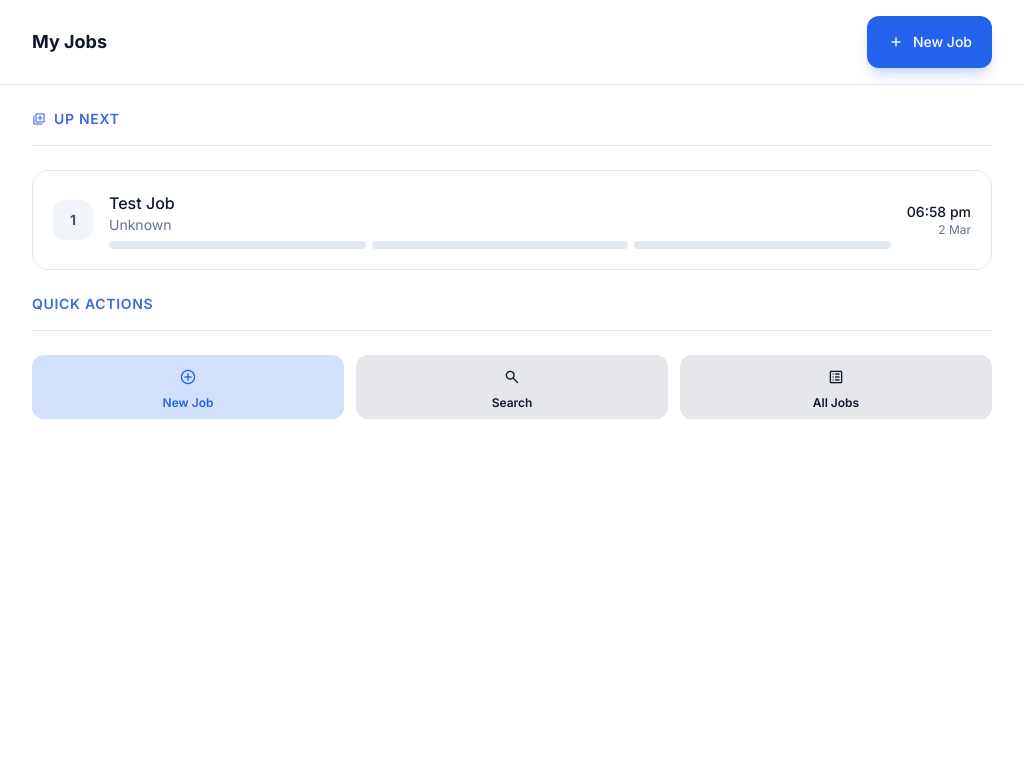
Scenario: SoloContractorDashboard - Integration › Search Modal › closes modal when close button clicked
Click the button with aria-label "Search jobs": (512, 387) [356,355,668,419]
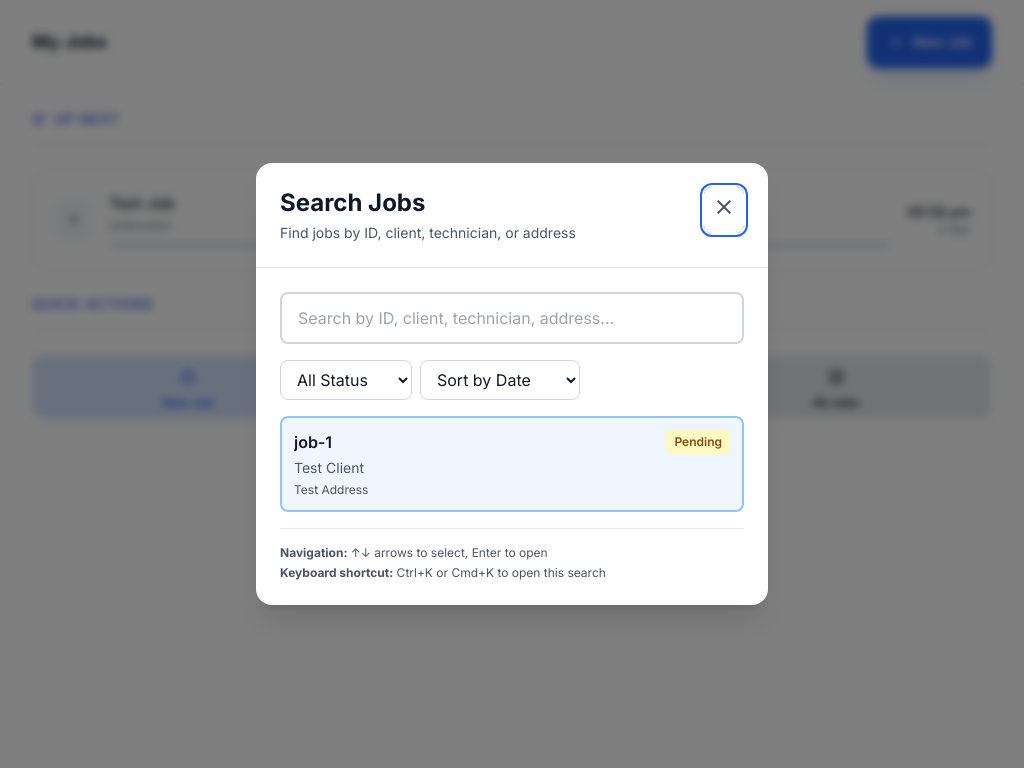
Expected: the dialog "Search Jobs" is shown, [256,163,768,605]
Click the button named "Close dialog": (724, 210) [704,187,744,233]
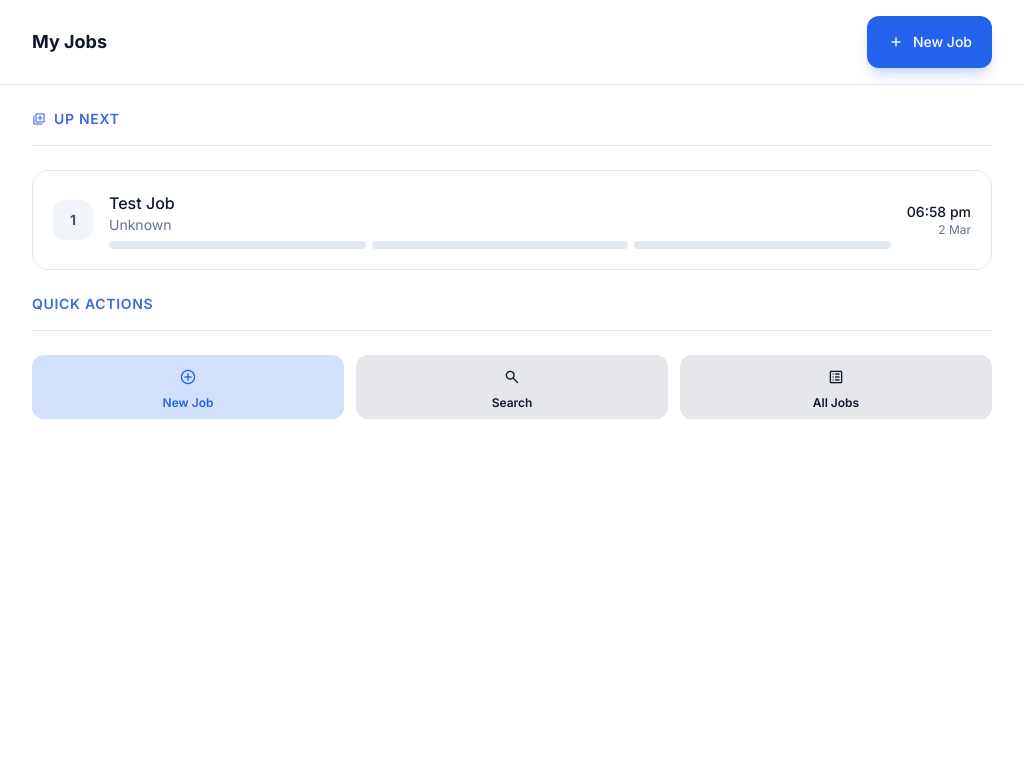
Expected: the heading "Search Jobs" is gone
